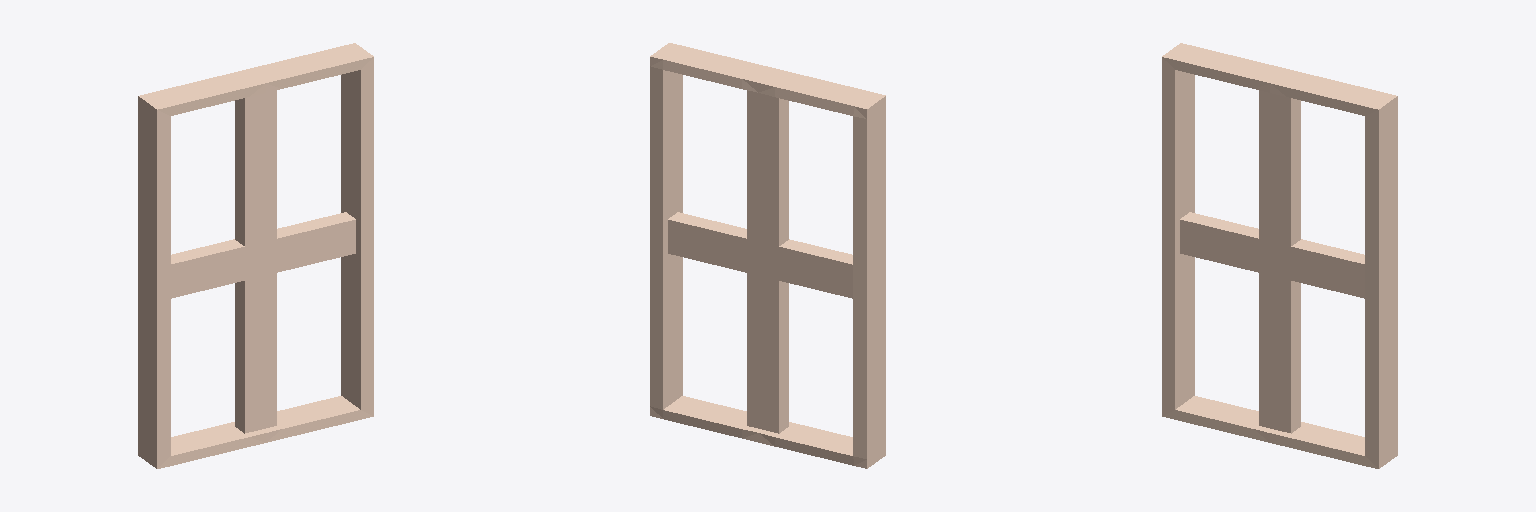
File: Finestra.obj
3 views of the same model, side by side, from view 1: azimuth 30°, elevation 25°; view 2: azimuth 150°, elevation 25°; view 3: azimuth 330°, elevation 25° (orthographic).
Parts seen in each view (by area): view 1: Cube; view 2: Cube; view 3: Cube.
Part boxes in pixels (x1,y1,x2,y2): Cube: (138,43,373,468); Cube: (650,43,885,468); Cube: (1162,43,1397,468).
Size of the model in its own units: 1.53 by 2.43 by 0.2391.